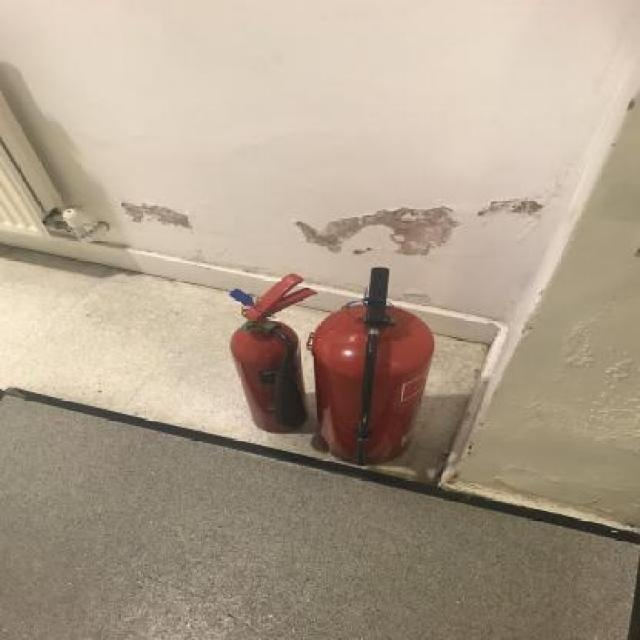fire extinguisher: (310, 267, 436, 465), (230, 273, 318, 430)
